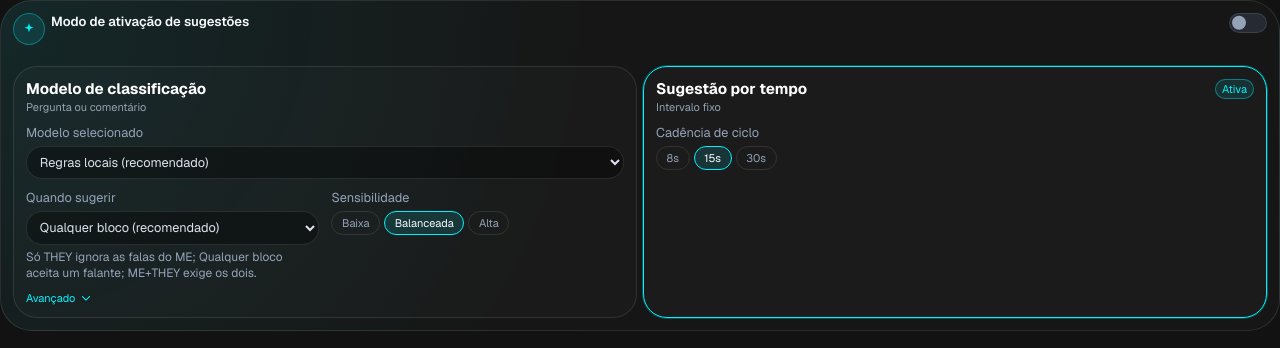
SuggestionsActivationBlock › troca para o classificador e liga o interruptor mestre
This screenshot has width=1280, height=348.
Click the heading "Modelo de classificação" at (116, 88), box [26,79,206,98]
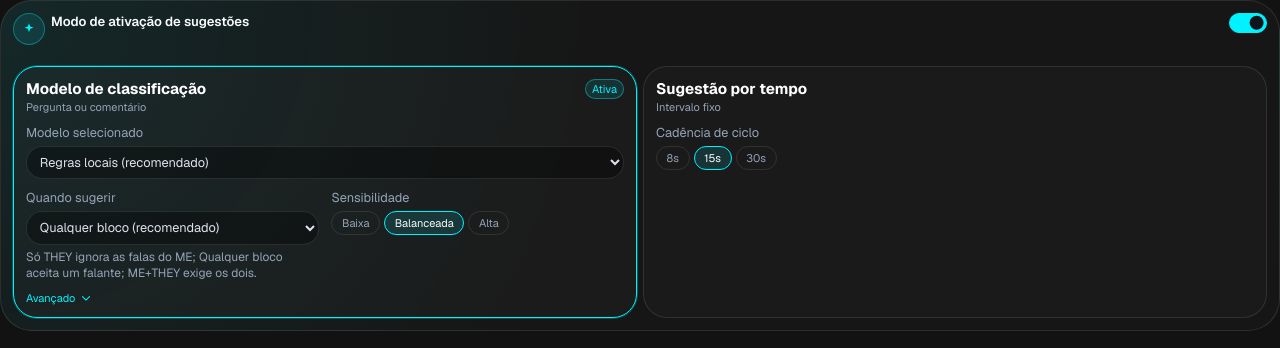
Expected: the text "Ativa" is shown, [585,79,624,99]
Now the checkbox named "Sugestões automáticas" is checked, box [1229,13,1267,33]
